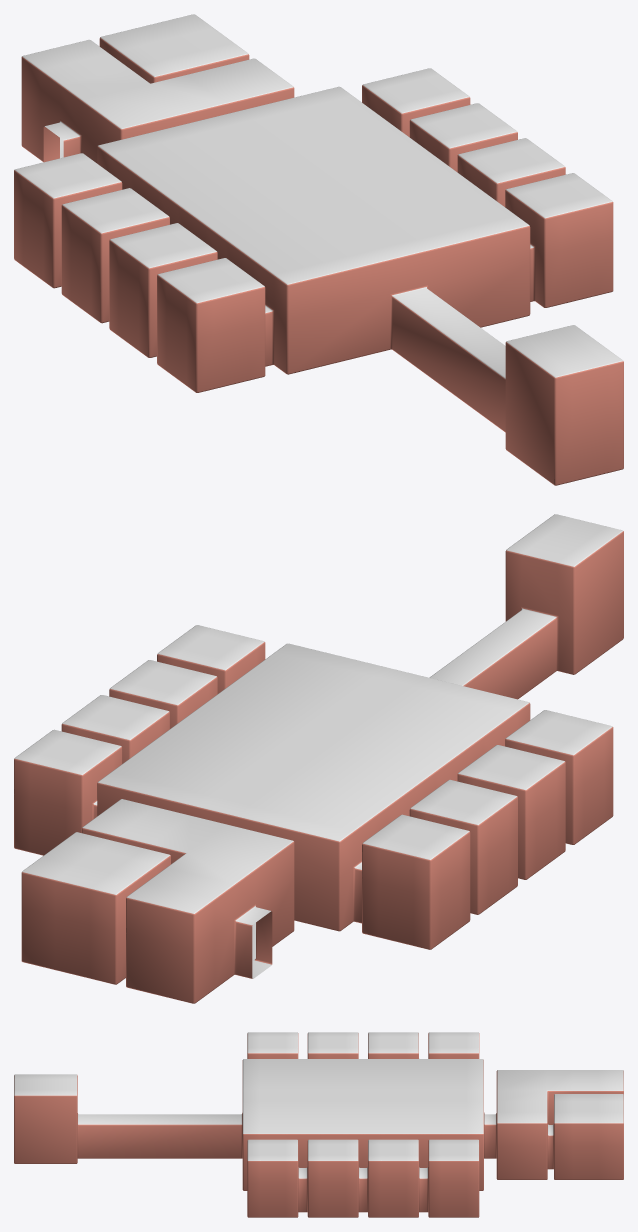
The model's file is Levels05.fbx.
3 renders of one model, top to bottom at view 1: azimuth 30°, elevation 25°; view 2: azimuth 150°, elevation 25°; view 3: azimuth 270°, elevation 25°, orthographic. The views are drawn at different scales.
Visible parts, largest first — view 1: Rooms.005; view 2: Rooms.005; view 3: Rooms.005.
Part boxes in pixels (x1,y1,x2,y2): Rooms.005: (14, 14, 623, 485); Rooms.005: (14, 514, 623, 1003); Rooms.005: (14, 1032, 623, 1217).
Bounding box in the file's own units: 24.01 × 6 × 48.01.
